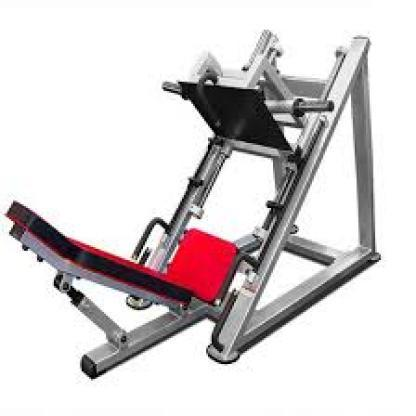leg press: (2, 24, 416, 385)
